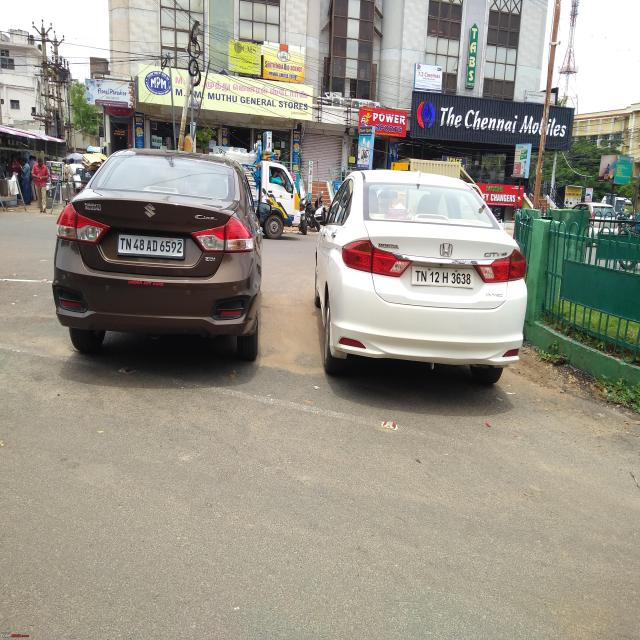car: (315, 170, 526, 385), (52, 150, 262, 360)
motorcycle: (305, 195, 320, 232), (299, 202, 308, 235)
truck: (214, 147, 300, 238)
